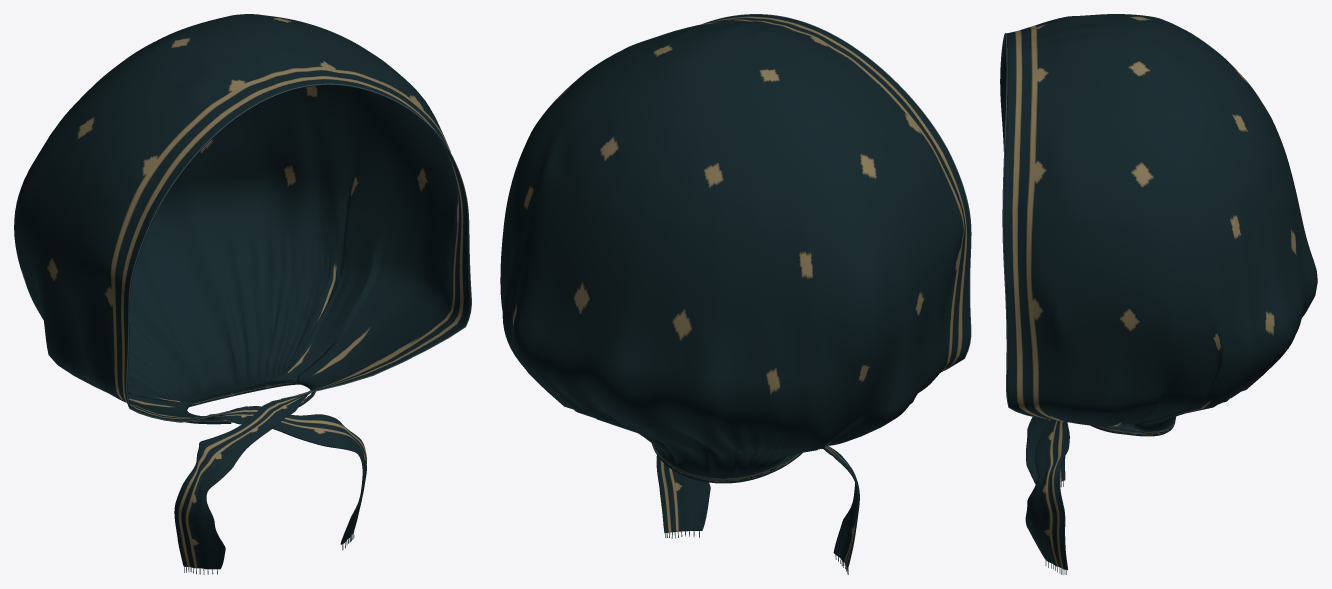
The model's file is Feminine-bob-tank-pashmina249-headgear.glb.
3 renders of one model, left to right at view 1: azimuth 30°, elevation 25°; view 2: azimuth 150°, elevation 25°; view 3: azimuth 270°, elevation 25°, orthographic. The views are drawn at different scales.
Parts seen in each view (by area): view 1: 226 headgear / Headwear / continuous woven pashmina239, 226 headgear / Headwear / face edge239; view 2: 226 headgear / Headwear / continuous woven pashmina239, 226 headgear / Headwear / face edge239; view 3: 226 headgear / Headwear / continuous woven pashmina239, 226 headgear / Headwear / face edge239.
Boxes of the visible parts, left/top/right/bottom form: 226 headgear / Headwear / continuous woven pashmina239: left=14, top=14, right=470, bottom=569; 226 headgear / Headwear / face edge239: left=126, top=83, right=471, bottom=422; 226 headgear / Headwear / continuous woven pashmina239: left=500, top=14, right=970, bottom=568; 226 headgear / Headwear / face edge239: left=703, top=14, right=971, bottom=371; 226 headgear / Headwear / continuous woven pashmina239: left=1000, top=14, right=1317, bottom=570; 226 headgear / Headwear / face edge239: left=1000, top=33, right=1041, bottom=418.
Bounding box in the file's own units: 1.08 × 1.41 × 0.806.
3 materials, 1 textured.
